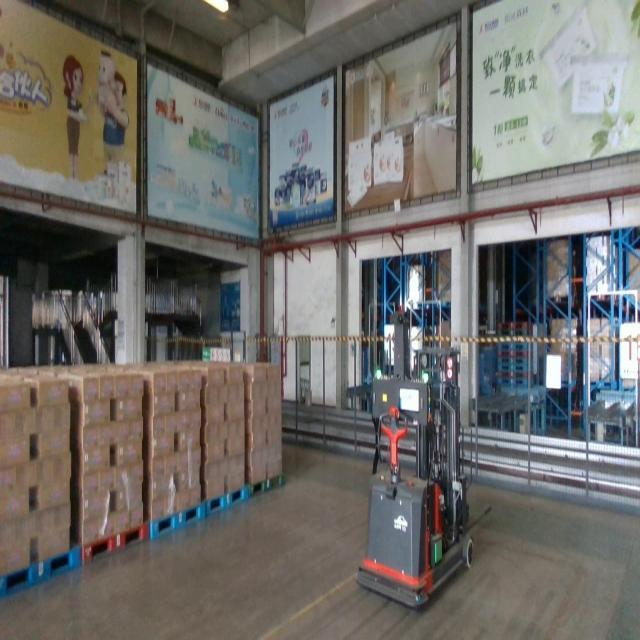forklift: (355, 302, 493, 615)
